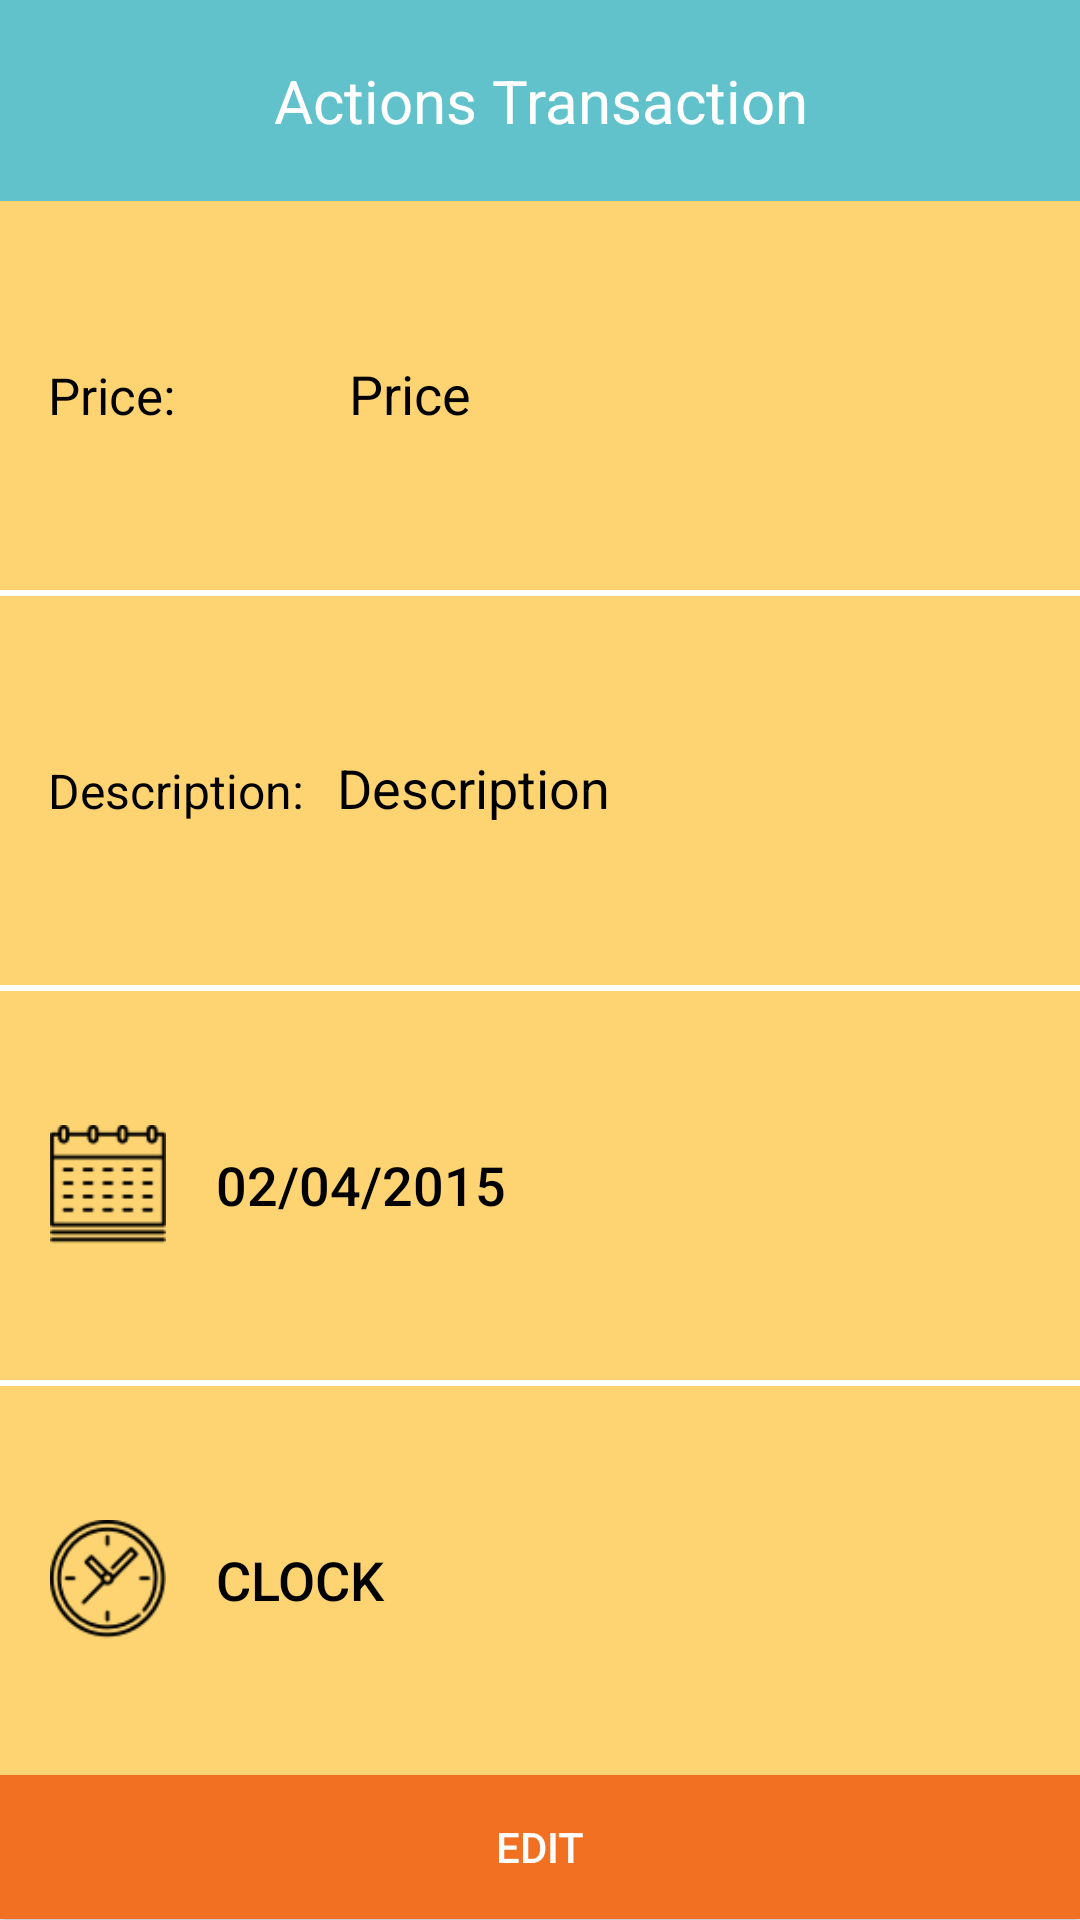

Where to tap for icons on this 1080x1920 app screen, as (x=x, y=y):
calendar: (x=108, y=1184)
